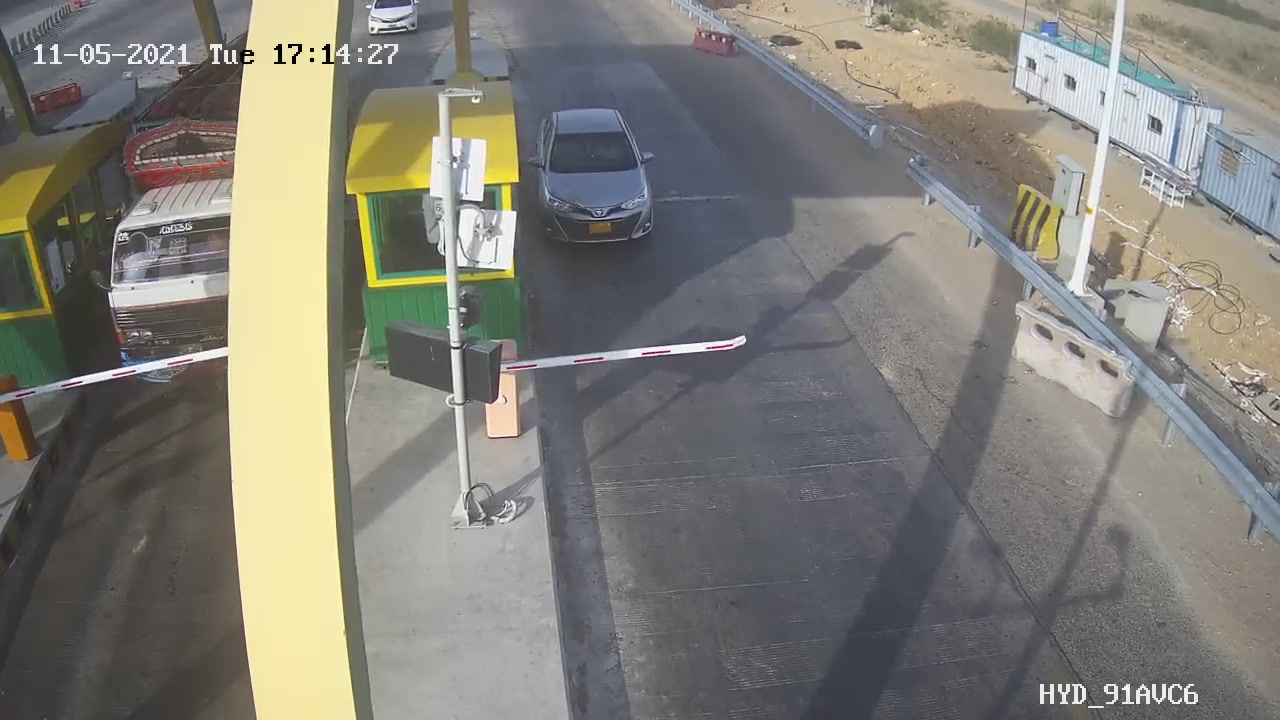F1: (516, 92, 678, 264)
